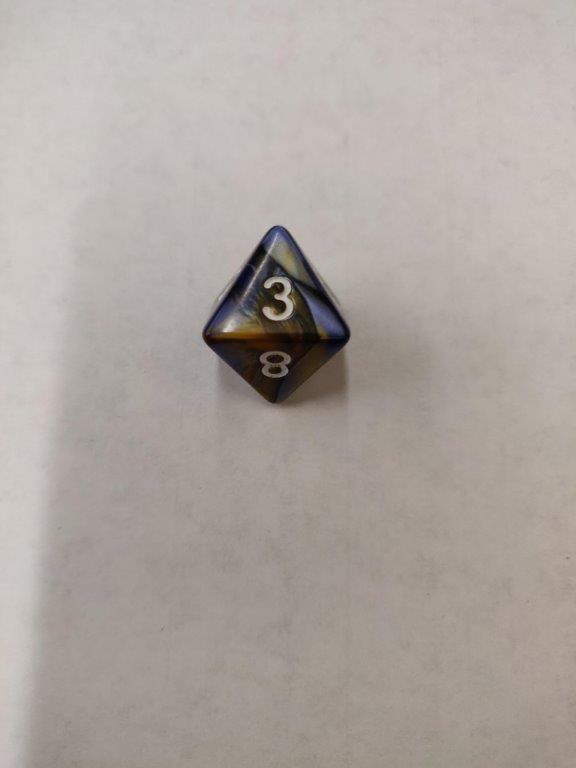d8-3: (202, 222, 353, 408)
